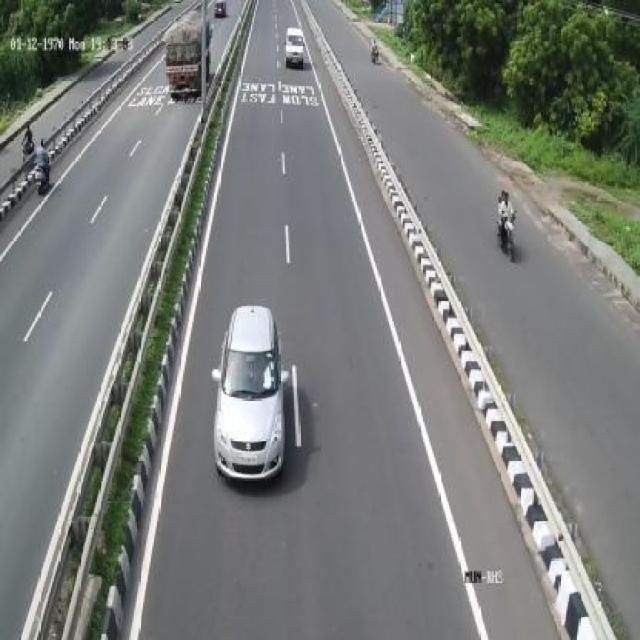car: (214, 300, 289, 488), (280, 23, 314, 68)
